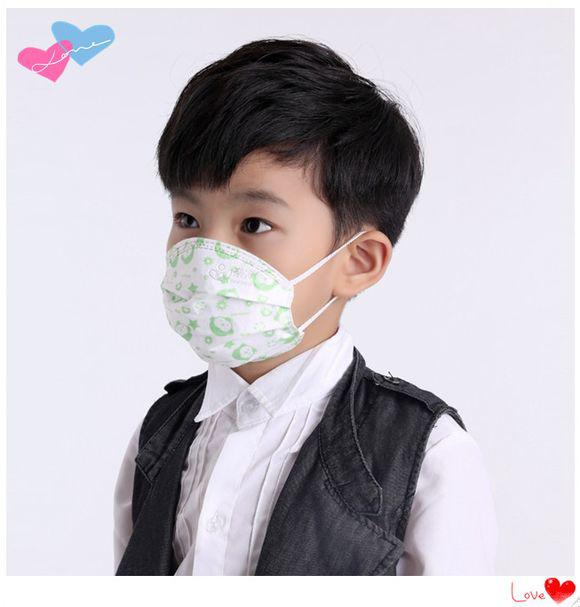OK: (161, 178, 346, 363)
